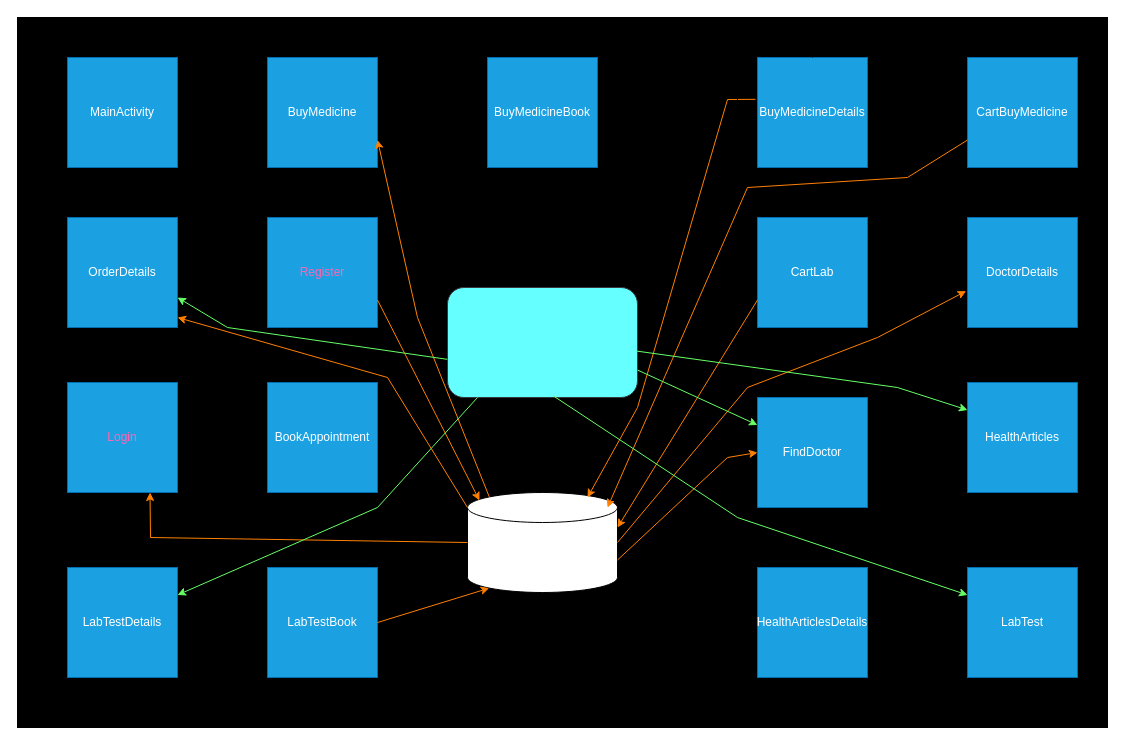
Image size: 1125x745. Some labels were removed from this diagram. Each missing label, with the centre of its shape:
Database: [542,542]
HomeActivity: [542,342]
